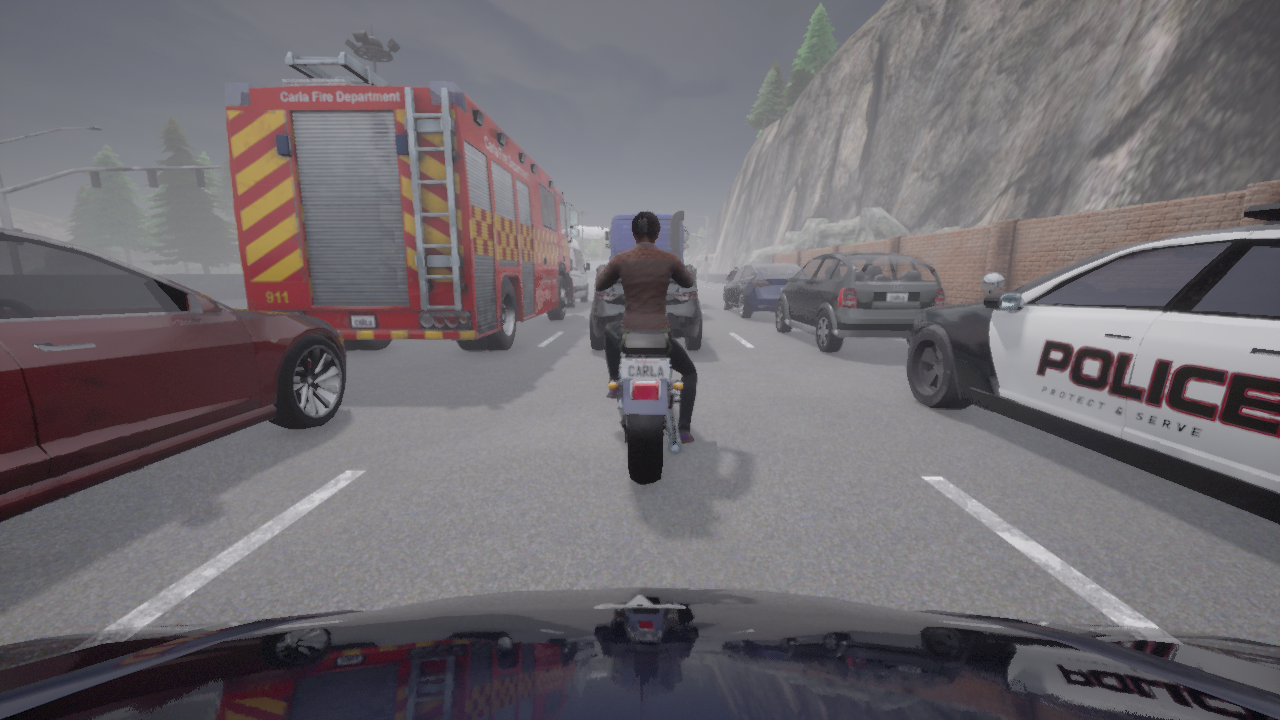cyclist: (0, 588, 1279, 719), (906, 203, 1279, 524), (224, 51, 579, 350), (596, 265, 695, 484), (775, 252, 944, 352), (590, 278, 702, 350), (605, 210, 696, 287), (723, 263, 800, 318), (567, 237, 589, 307), (723, 274, 732, 282)
